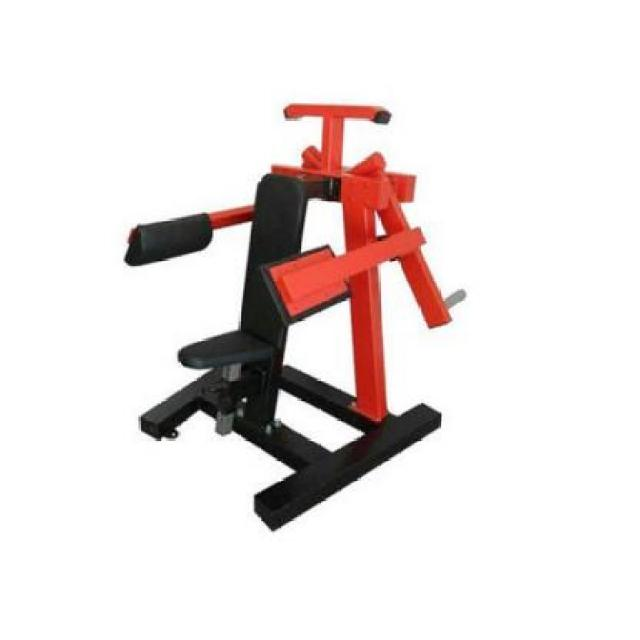lateral raises machine: (121, 103, 468, 534)
